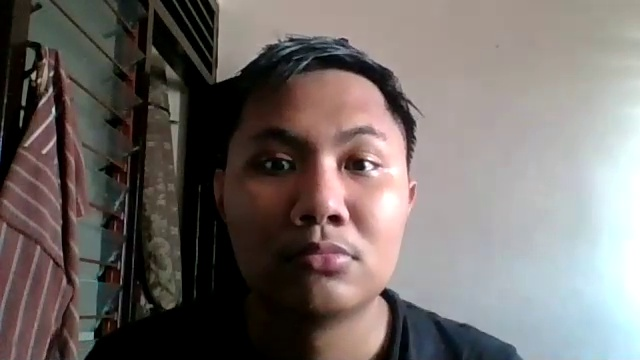Not Distracted: (219, 104, 415, 310)
